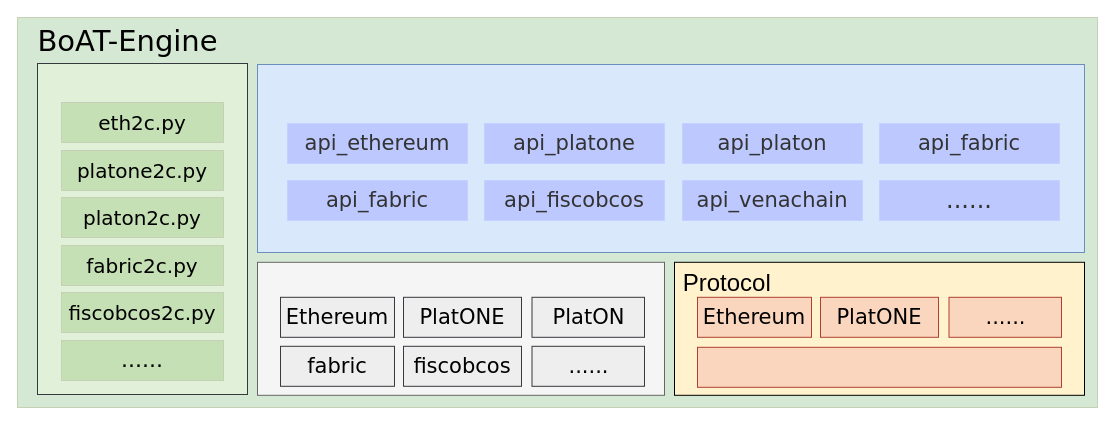
This 1115x425 diagram has some shape labels left out. The shapes that lost their labels are listed below. From the top down, each one's box as (x1, y1, x2, y2) in pixels, then its label:
(256, 64, 1084, 252): Wallet and Transaction
(36, 62, 248, 394): Tools
(256, 261, 664, 395): Network
(696, 346, 1062, 387): web3intf
